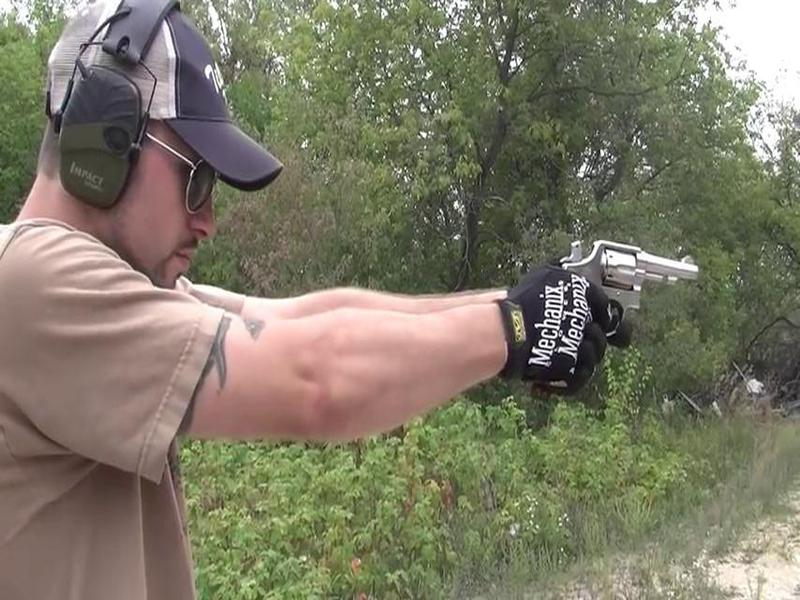Revolver: (527, 219, 733, 343)
